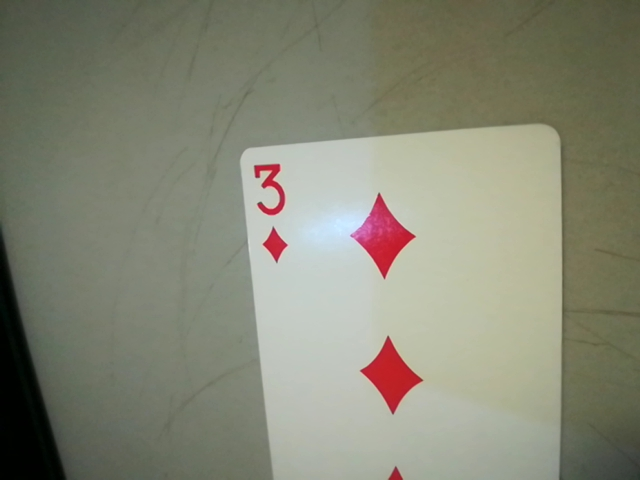fk 3: (241, 151, 301, 269)
